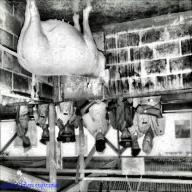boar: (17, 0, 110, 88)
